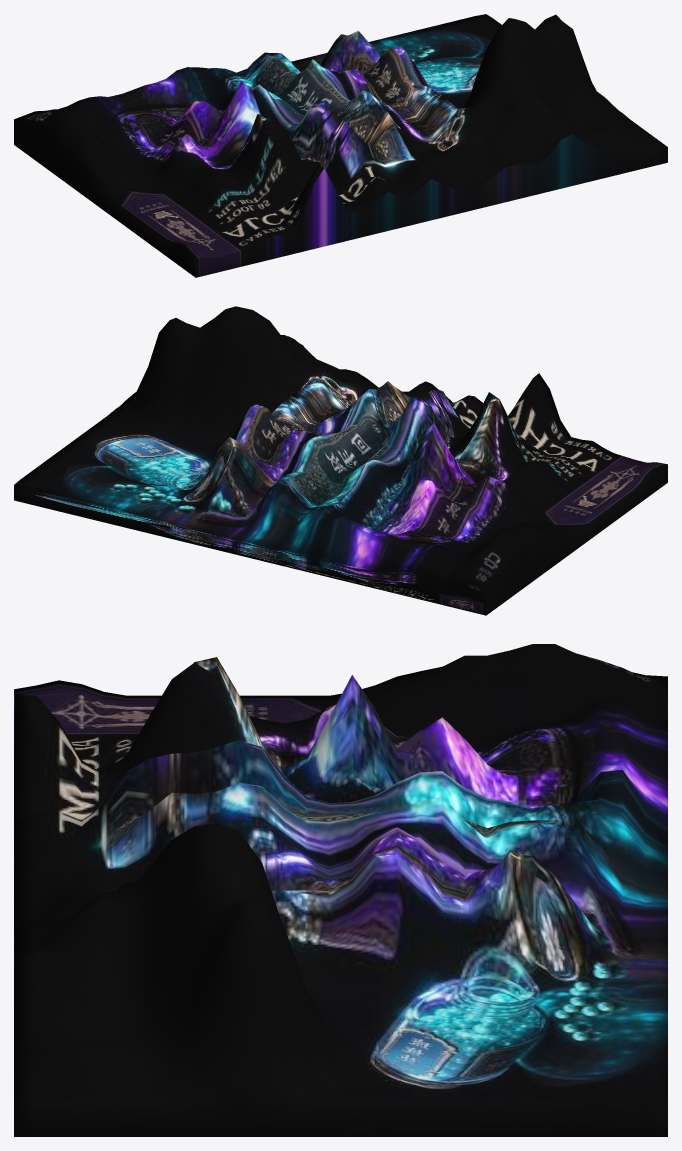
The model's file is CAREER_16_Tool_05_Bottles.glb.
The picture shows the model from 3 angles, top to bottom: view 1: azimuth 30°, elevation 25°; view 2: azimuth 150°, elevation 25°; view 3: azimuth 270°, elevation 25°; orthographic projection. The views are drawn at different scales.
Parts seen in each view (by area): view 1: CAREER_16_Tool_05_Bottles; view 2: CAREER_16_Tool_05_Bottles; view 3: CAREER_16_Tool_05_Bottles.
Boxes of the visible parts, <box> form: CAREER_16_Tool_05_Bottles: <box>14,14,667,277</box>; CAREER_16_Tool_05_Bottles: <box>14,306,667,615</box>; CAREER_16_Tool_05_Bottles: <box>14,644,667,1136</box>.
Size of the model in its own units: 2 by 0.51 by 1.33.
Materials: 1 (1 with a texture image).
